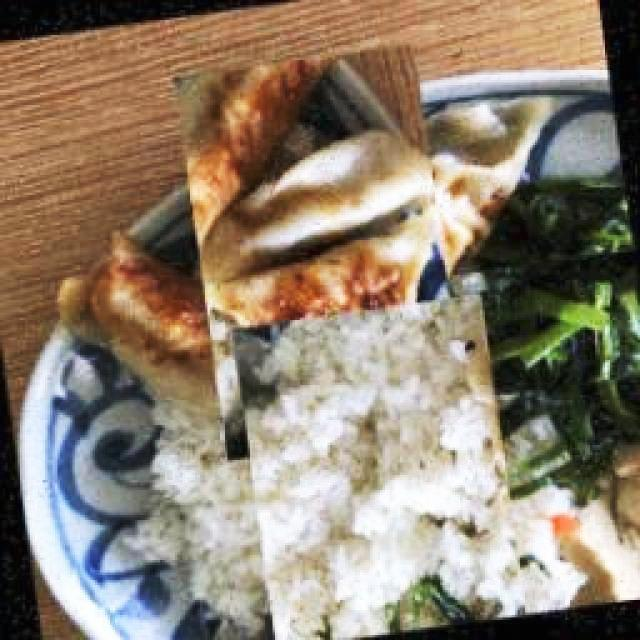fried_dumplings: (223, 233, 444, 315)
rice: (151, 313, 588, 636)
water_spinach: (480, 177, 640, 525)
